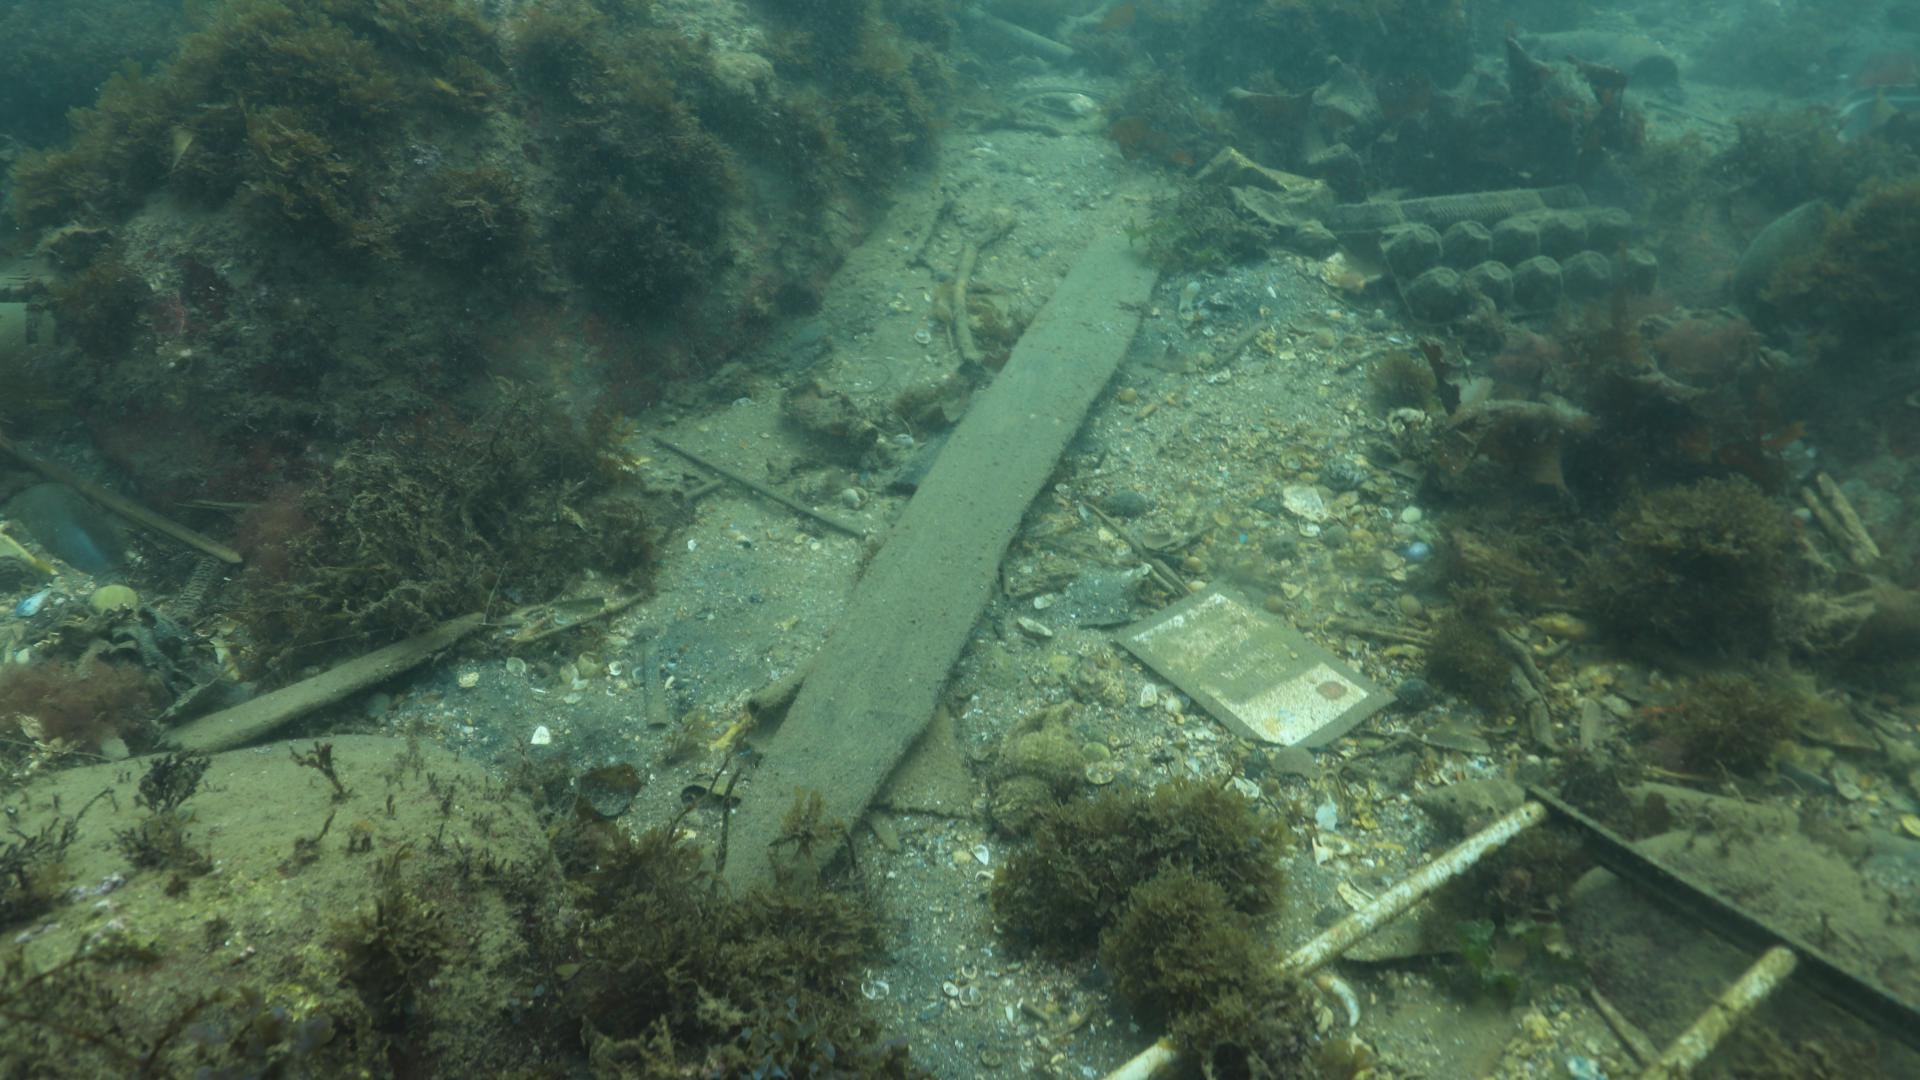wood: (698, 179, 1175, 901)
